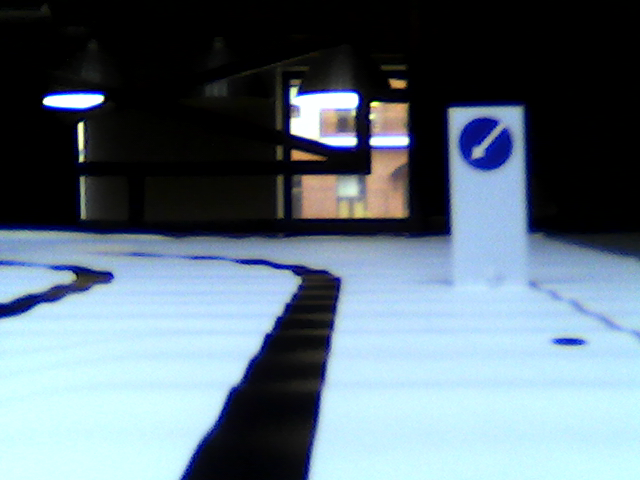prep: (456, 116, 517, 170)
